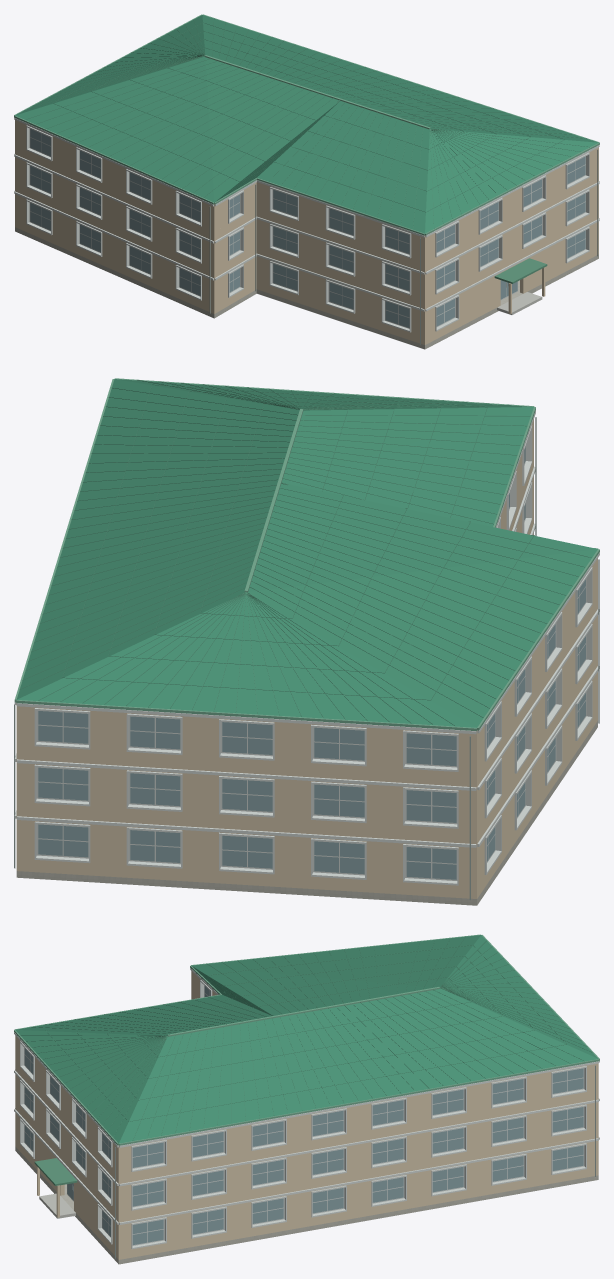
The picture shows the model from 3 angles, top to bottom: view 1: azimuth 30°, elevation 25°; view 2: azimuth 150°, elevation 25°; view 3: azimuth 270°, elevation 25°; orthographic projection. The views are drawn at different scales.
Visible parts, largest first — view 1: dorm__rooftile, dorm__cream, dorm__frame, dorm__glass, dorm__roofseam, dorm__roofridge, dorm__stone, dorm__metal, dorm__roof, dorm__threshold-entry; view 2: dorm__rooftile, dorm__cream, dorm__frame, dorm__glass, dorm__roofseam, dorm__roofridge, dorm__stone, dorm__metal; view 3: dorm__rooftile, dorm__cream, dorm__frame, dorm__glass, dorm__roofseam, dorm__roofridge, dorm__stone, dorm__roof, dorm__threshold-entry.
Boxes of the visible parts, x1,y1,x2,y2 form: dorm__rooftile: [15, 15, 598, 233]; dorm__cream: [15, 120, 598, 344]; dorm__frame: [14, 118, 599, 332]; dorm__glass: [30, 129, 585, 327]; dorm__roofseam: [24, 18, 589, 228]; dorm__roofridge: [14, 14, 599, 235]; dorm__stone: [15, 227, 598, 349]; dorm__metal: [209, 149, 598, 344]; dorm__roof: [494, 258, 547, 283]; dorm__threshold-entry: [497, 292, 542, 314]; dorm__rooftile: [16, 379, 597, 727]; dorm__cream: [16, 419, 597, 898]; dorm__frame: [14, 410, 599, 885]; dorm__glass: [38, 447, 585, 879]; dorm__roofseam: [19, 379, 591, 725]; dorm__roofridge: [14, 378, 599, 731]; dorm__stone: [16, 721, 597, 905]; dorm__metal: [14, 417, 599, 900]; dorm__rooftile: [15, 935, 598, 1143]; dorm__cream: [15, 971, 598, 1259]; dorm__frame: [14, 968, 599, 1249]; dorm__glass: [24, 986, 583, 1244]; dorm__roofseam: [21, 936, 592, 1140]; dorm__roofridge: [14, 934, 599, 1145]; dorm__stone: [15, 1146, 598, 1264]; dorm__roof: [34, 1158, 77, 1185]; dorm__threshold-entry: [39, 1193, 75, 1218].
Size of the model in its own units: 39.62 by 13.69 by 46.79.
11 materials, 1 textured.
